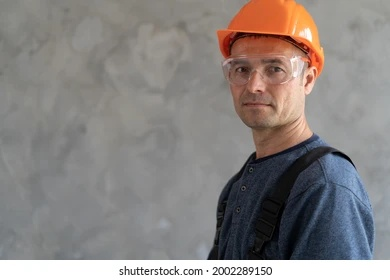safety_goggles: (199, 53, 326, 83)
